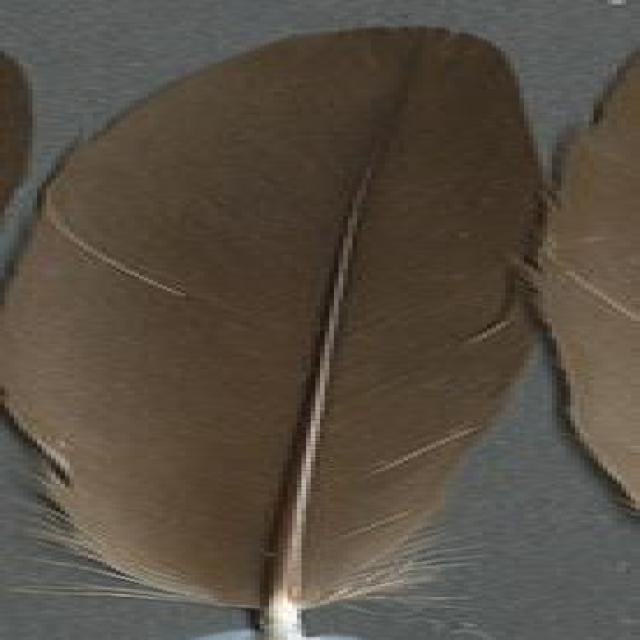feather: (9, 25, 552, 640)
